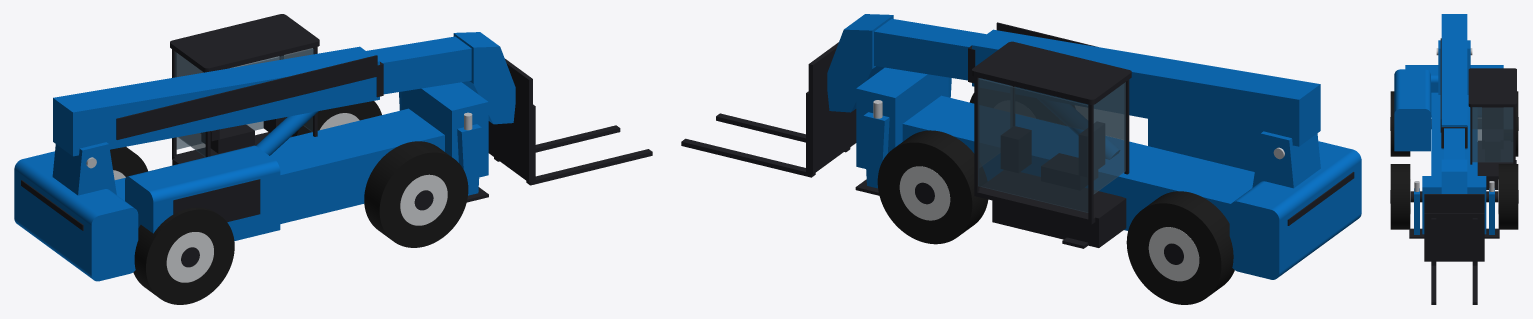
Rendered from telehandler-10k-stowed.glb.
The picture shows the model from 3 angles, left to right: view 1: azimuth 30°, elevation 25°; view 2: azimuth 150°, elevation 25°; view 3: azimuth 270°, elevation 25°; orthographic projection. The views are drawn at different scales.
Parts seen in each view (by area): view 1: lift_cylinder_barrel_eb01b6, fork_tine_-1_c3f97c, front_tyre_-1_b50b61, front_rim_-1_c141c0, cab_glass_inner_4dc6f3; view 2: lift_cylinder_barrel_eb01b6, fork_tine_-1_c3f97c, cab_glass_inner_4dc6f3, front_tyre_-1_b50b61, front_rim_-1_c141c0; view 3: lift_cylinder_barrel_eb01b6, fork_tine_-1_c3f97c, front_tyre_-1_b50b61, cab_glass_inner_4dc6f3, tilt_cylinder_3d61b3.
Boxes of the visible parts, bbox=[...] form: lift_cylinder_barrel_eb01b6: bbox=[14, 32, 515, 281]; fork_tine_-1_c3f97c: bbox=[21, 14, 652, 267]; front_tyre_-1_b50b61: bbox=[110, 101, 468, 304]; front_rim_-1_c141c0: bbox=[113, 113, 447, 282]; cab_glass_inner_4dc6f3: bbox=[175, 48, 314, 157]; lift_cylinder_barrel_eb01b6: bbox=[827, 14, 1361, 279]; fork_tine_-1_c3f97c: bbox=[681, 22, 1354, 264]; cab_glass_inner_4dc6f3: bbox=[978, 78, 1125, 212]; front_tyre_-1_b50b61: bbox=[877, 93, 1234, 304]; front_rim_-1_c141c0: bbox=[899, 166, 1199, 281]; lift_cylinder_barrel_eb01b6: bbox=[1394, 14, 1503, 234]; fork_tine_-1_c3f97c: bbox=[1390, 38, 1518, 304]; front_tyre_-1_b50b61: bbox=[1390, 91, 1518, 229]; cab_glass_inner_4dc6f3: bbox=[1472, 107, 1513, 162]; tilt_cylinder_3d61b3: bbox=[1414, 48, 1494, 191].
Bounding box in the file's own units: 8.73 × 2.59 × 2.6.
